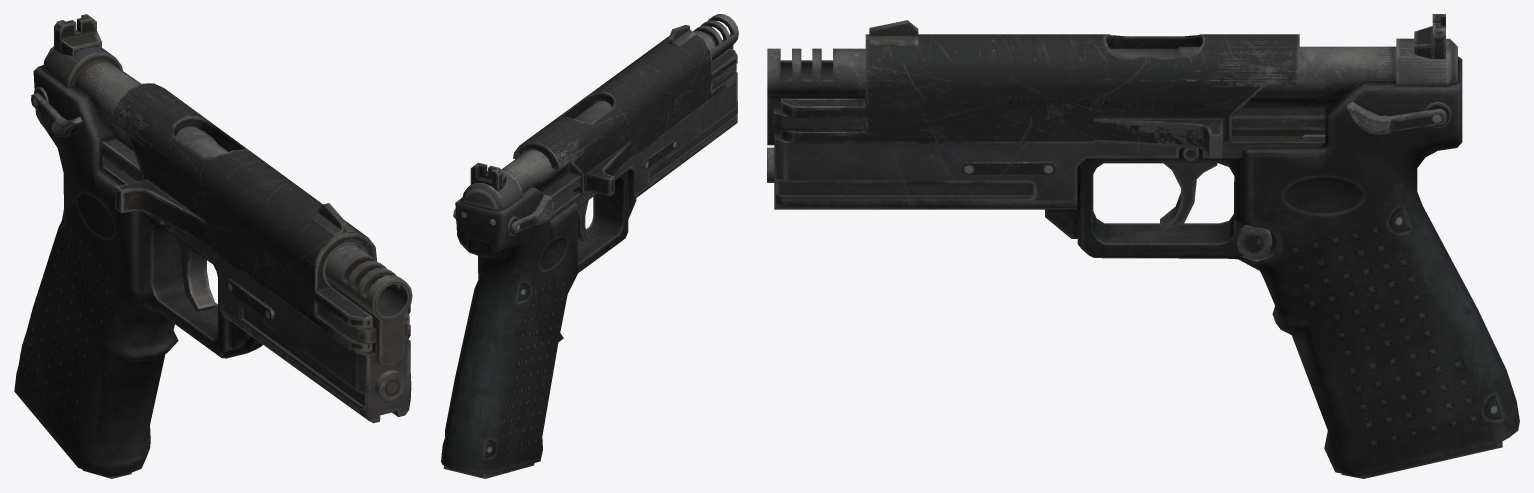
File: madsonD9_body.fbx
3 views of the same model, side by side, from view 1: azimuth 30°, elevation 25°; view 2: azimuth 150°, elevation 25°; view 3: azimuth 270°, elevation 25° (orthographic). The views are drawn at different scales.
Parts seen in each view (by area): view 1: base, slide, trigger; view 2: base, slide, trigger; view 3: base, slide, trigger.
Part boxes in pixels (left/top/right/bottom): base: left=14, top=14, right=412, bottom=476; slide: left=110, top=83, right=410, bottom=352; trigger: left=174, top=236, right=215, bottom=311; base: left=441, top=14, right=738, bottom=474; slide: left=513, top=25, right=737, bottom=196; trigger: left=578, top=200, right=591, bottom=242; base: left=767, top=14, right=1519, bottom=476; slide: left=781, top=20, right=1299, bottom=158; trigger: left=1160, top=163, right=1217, bottom=232.
Bounding box in the file's own units: 0.0478 × 0.1537 × 0.234.
